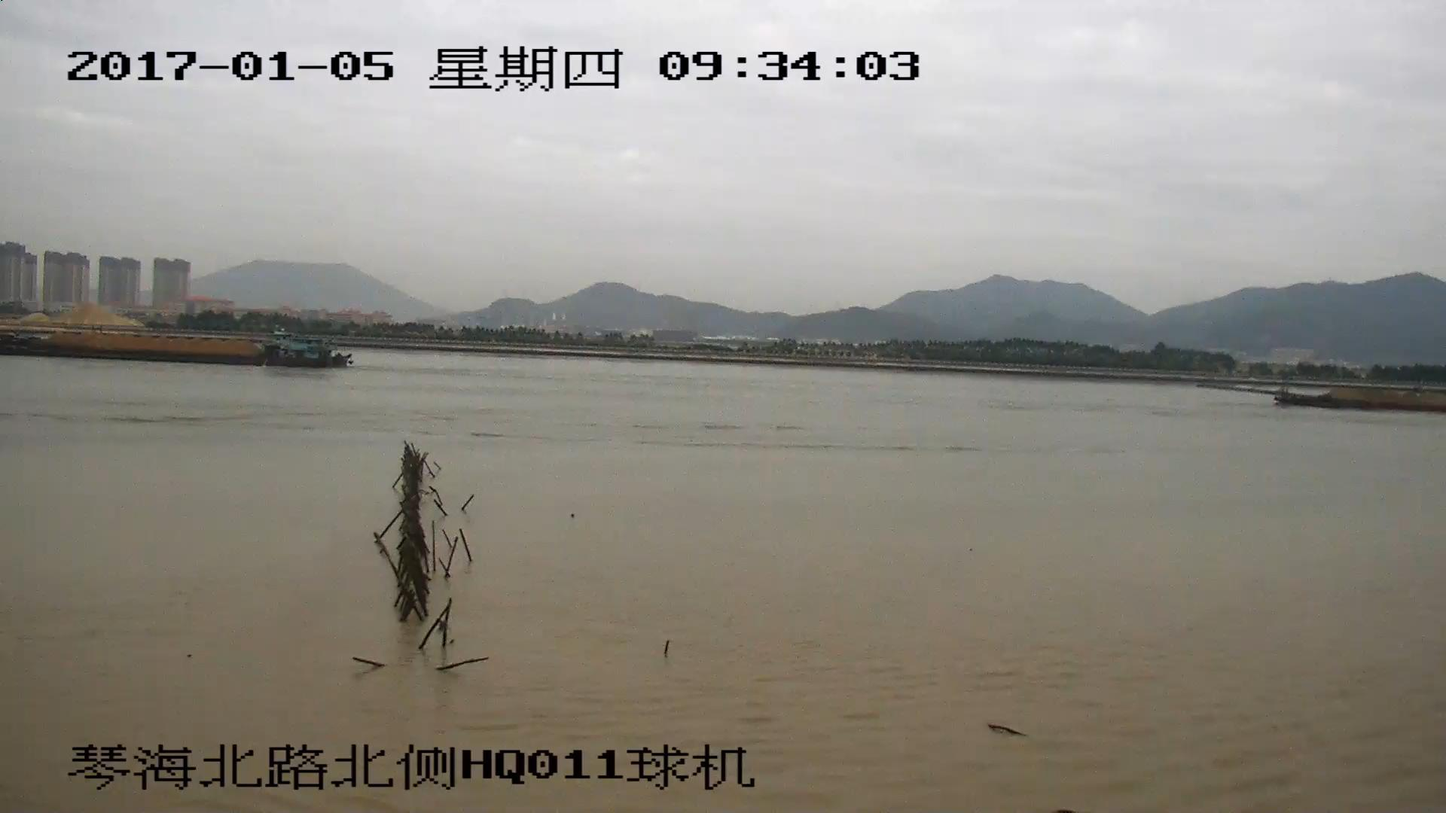ore carrier: (0, 327, 344, 368), (1201, 376, 1445, 411)
